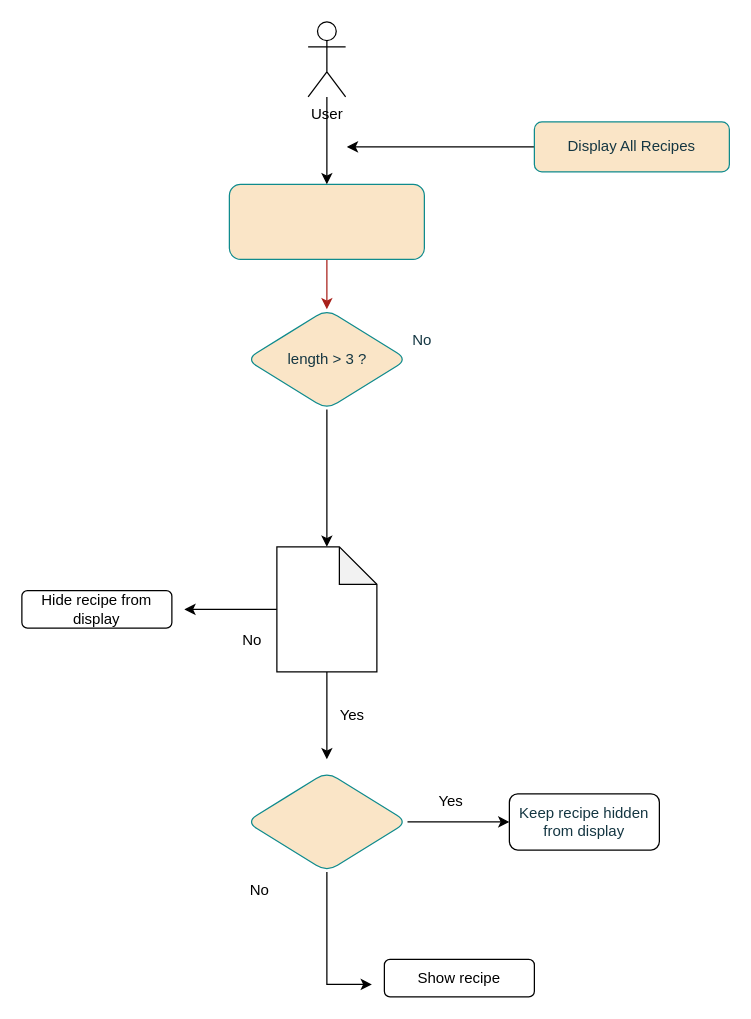
This 751x1019 diagram has some shape labels left out. Here are the shapes that lost their labels. From the top down, the centre of each, then its label:
At [326,221]: "User uses search form".
At [326,609]: "Filter() Correspond Conditions".
At [326,821]: "Is hidden by tags".
